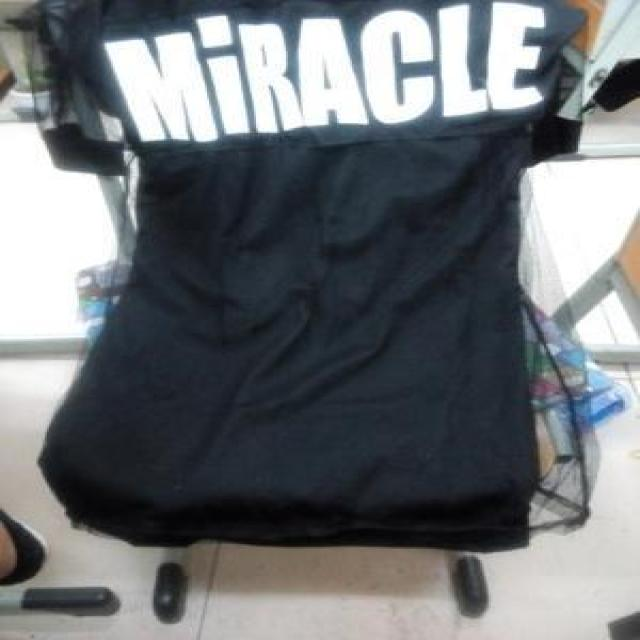short sleeve dress: (30, 2, 591, 547)
